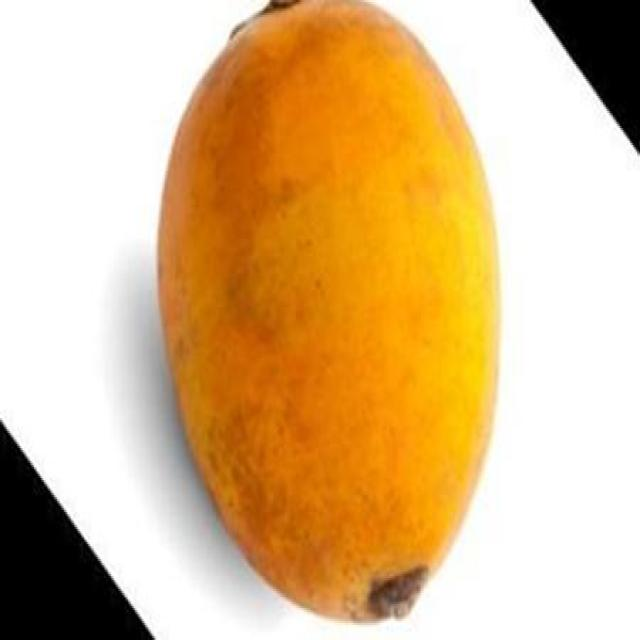good: (156, 0, 501, 623)
